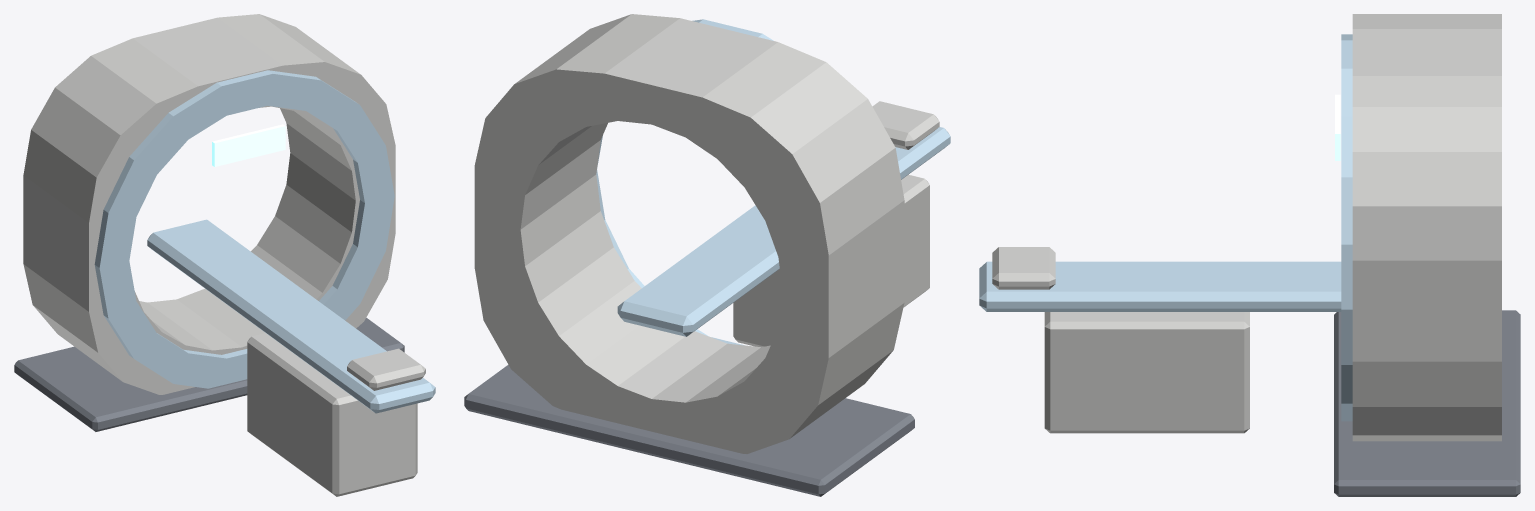
3 renders of one model, left to right at view 1: azimuth 30°, elevation 25°; view 2: azimuth 150°, elevation 25°; view 3: azimuth 270°, elevation 25°, orthographic. The views are drawn at different scales.
Visible parts, largest first — view 1: ct-scanner; view 2: ct-scanner; view 3: ct-scanner.
Part boxes in pixels (bbox=[...]): ct-scanner: bbox=[14, 14, 435, 496]; ct-scanner: bbox=[464, 14, 950, 496]; ct-scanner: bbox=[979, 14, 1520, 496].
Size of the model in its own units: 2.2 by 2.12 by 2.9.
